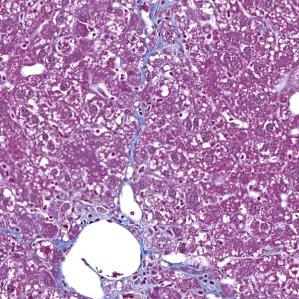fibrosis: (148, 255, 217, 299), (132, 0, 178, 61)
